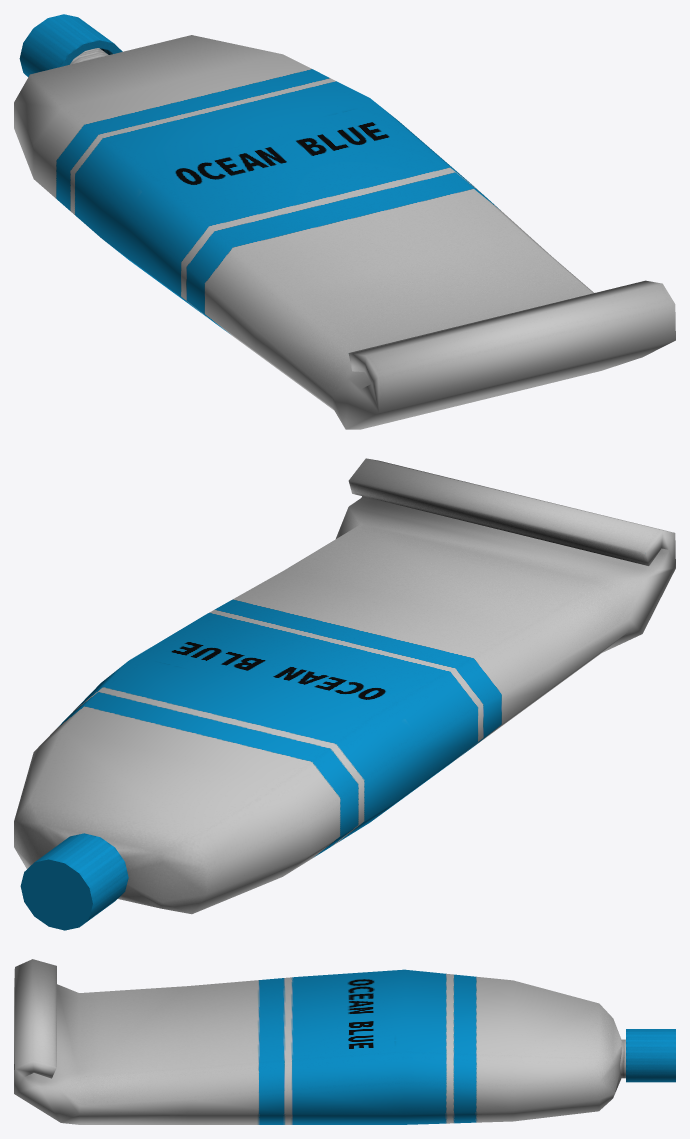
The model's file is paint_05.fbx.
The picture shows the model from 3 angles, top to bottom: view 1: azimuth 30°, elevation 25°; view 2: azimuth 150°, elevation 25°; view 3: azimuth 270°, elevation 25°; orthographic projection. The views are drawn at different scales.
Visible parts, largest first — view 1: paint_05, paint_05.lid; view 2: paint_05, paint_05.lid; view 3: paint_05, paint_05.lid.
Part boxes in pixels (x1,y1,x2,y2): paint_05: [14, 35, 675, 429]; paint_05.lid: [19, 14, 122, 76]; paint_05: [14, 458, 675, 914]; paint_05.lid: [20, 833, 128, 930]; paint_05: [14, 959, 625, 1124]; paint_05.lid: [626, 1029, 675, 1082].
Bounding box in the file's own units: 11.6 × 3.91 × 31.88.
